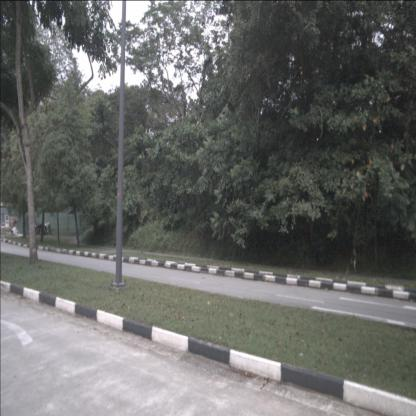vehicle-motorcycle: (41, 222, 54, 235), (32, 224, 44, 235)
